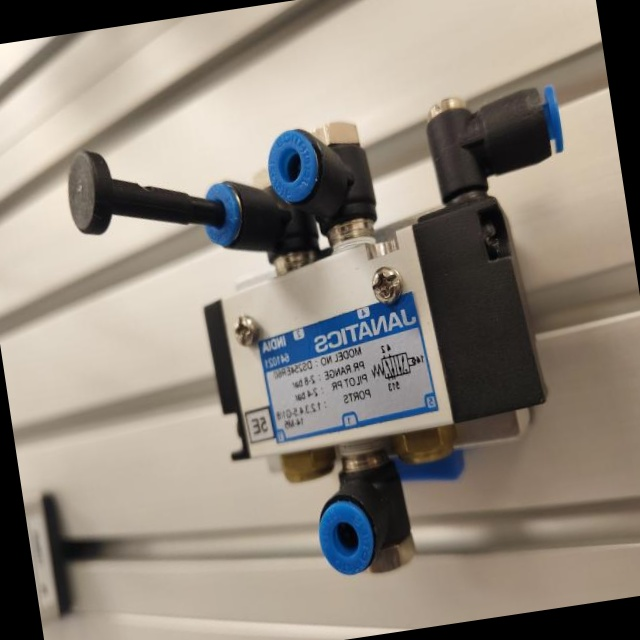5by2 DCV: (46, 60, 635, 623)
